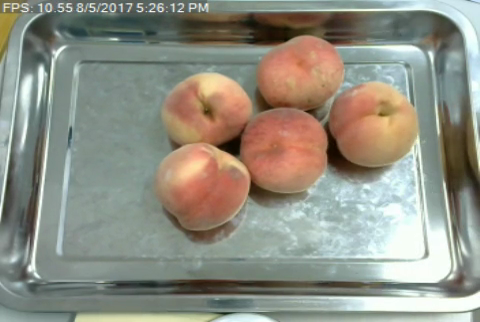Peach: (156, 142, 249, 231), (239, 105, 329, 194), (327, 80, 418, 168), (162, 69, 253, 150), (253, 35, 345, 109)
